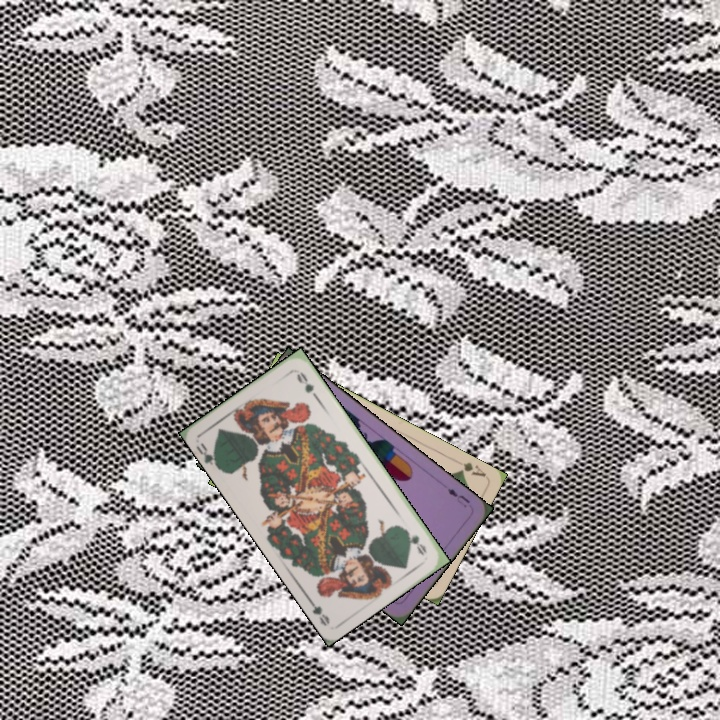EU: (443, 484, 473, 510)
GA: (455, 458, 489, 480)
GO: (399, 524, 430, 558), (193, 438, 224, 472)
